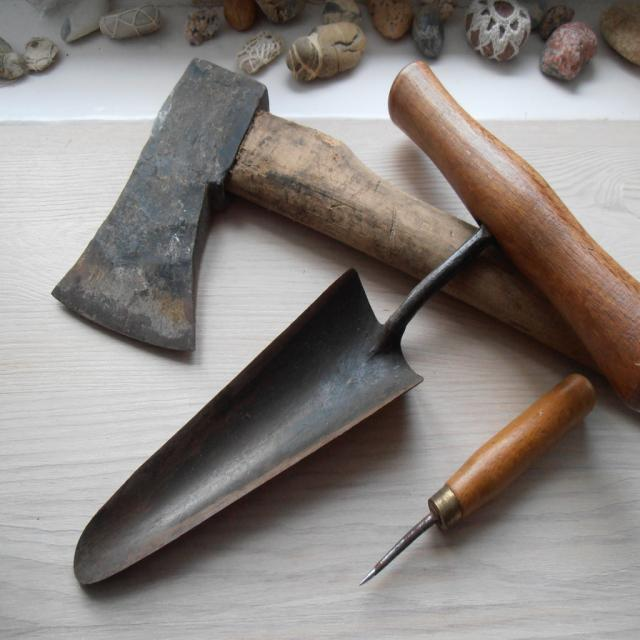Axe: (52, 60, 474, 349), (446, 246, 592, 364)
